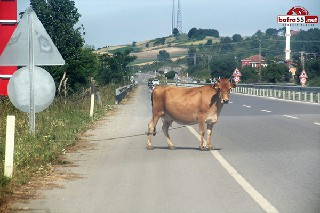inek: (141, 76, 261, 165)
